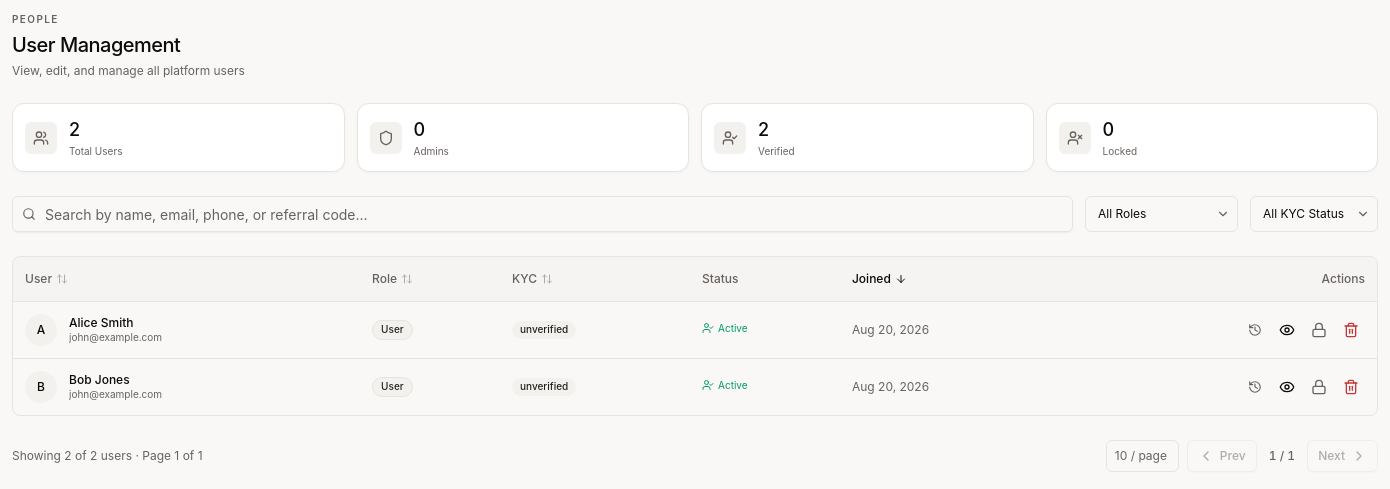
Test: AdminUsers Page › Search › filters users by name
Step 1. Type "alice" into the field with placeholder "Search by name, email, phone, or referral code..." → {"x": 542, "y": 214}, box [12,196,1073,232]
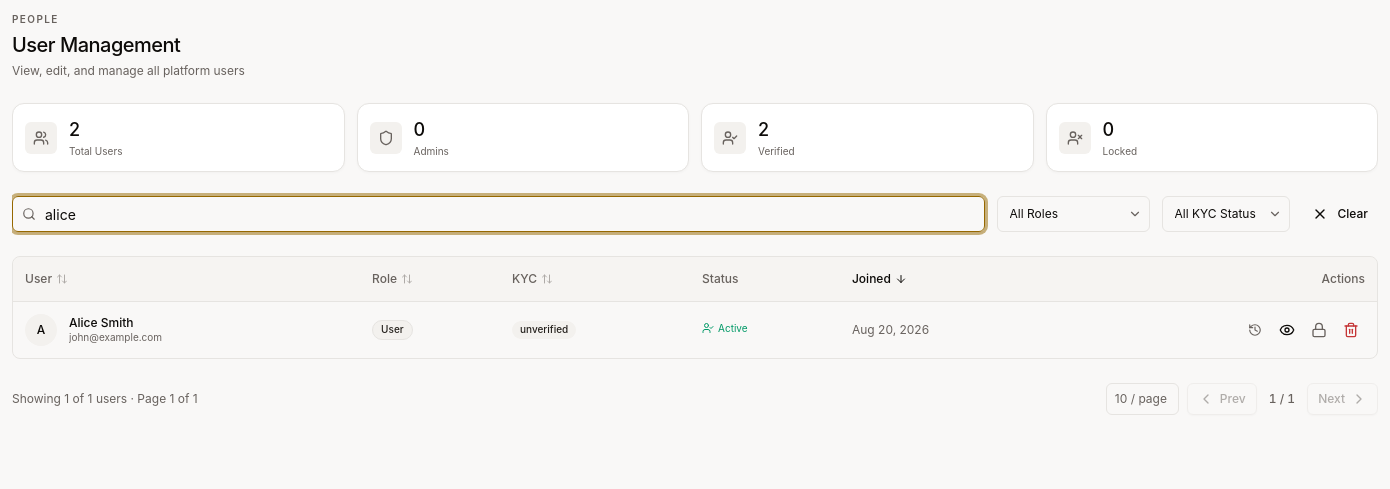
Expected: the text "Alice Smith" is shown, [69,315,134,330]
Result: the text "Bob Jones" is gone
